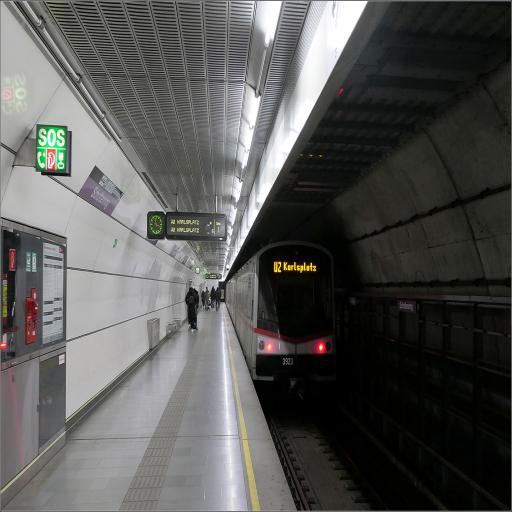V-Wagen: (225, 242, 335, 382)
